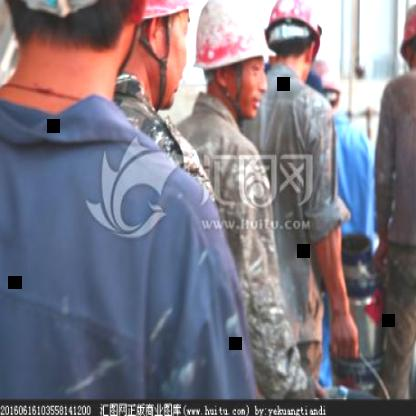helmet: (112, 0, 196, 125), (194, 0, 270, 120), (263, 0, 323, 84), (309, 56, 348, 115), (394, 0, 416, 76)
